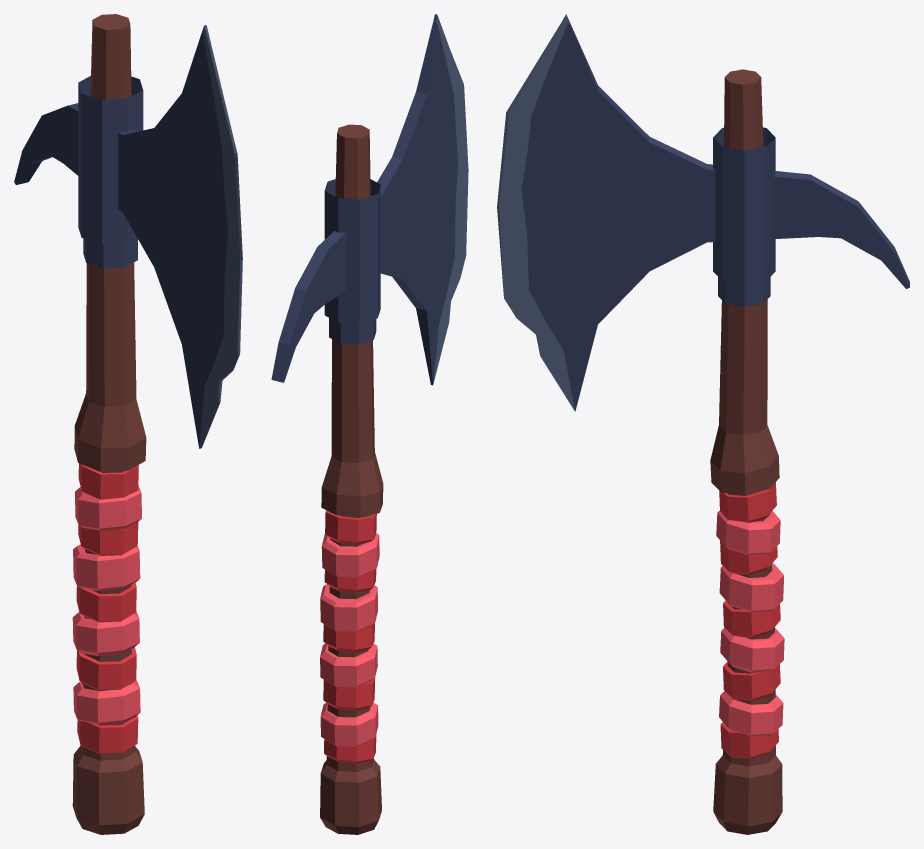
File: Battle_Axe_03.fbx
3 renders of one model, left to right at view 1: azimuth 30°, elevation 25°; view 2: azimuth 150°, elevation 25°; view 3: azimuth 270°, elevation 25°, orthographic. The views are drawn at different scales.
Visible parts, largest first — view 1: Battle Axe 03; view 2: Battle Axe 03; view 3: Battle Axe 03.
Part boxes in pixels (x1,y1,x2,y2): Battle Axe 03: (14, 14, 242, 834); Battle Axe 03: (271, 14, 468, 834); Battle Axe 03: (497, 14, 909, 834).
Size of the model in its own units: 8.86 by 114 by 52.76.
